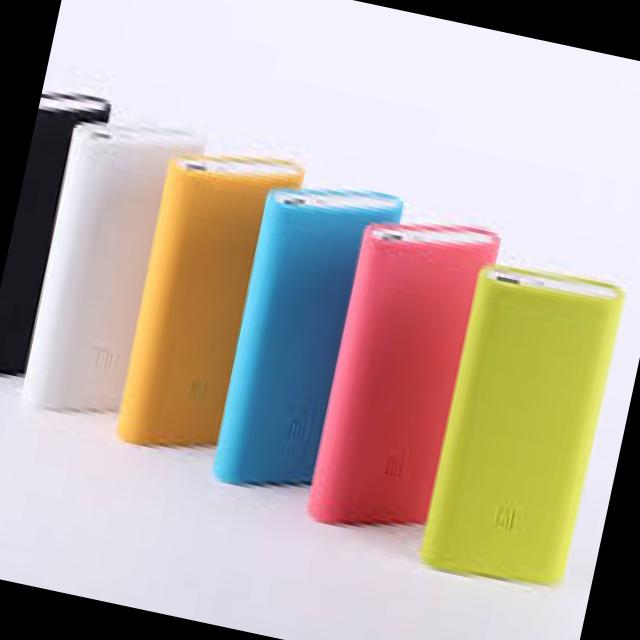power_bank: (202, 162, 410, 516), (300, 202, 504, 556), (10, 108, 224, 442), (416, 264, 622, 598), (107, 142, 299, 465), (0, 70, 116, 394)
